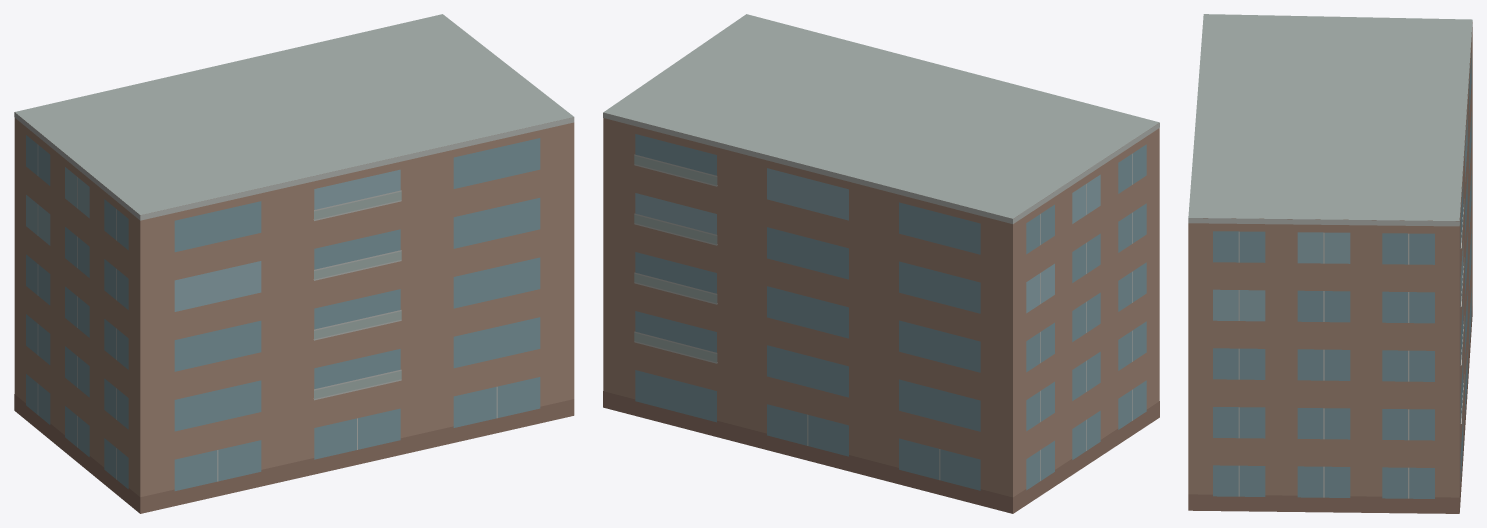
The model's file is survey-upis-33024418.glb.
The picture shows the model from 3 angles, left to right: view 1: azimuth 30°, elevation 25°; view 2: azimuth 150°, elevation 25°; view 3: azimuth 270°, elevation 25°; orthographic projection. The views are drawn at different scales.
Visible parts, largest first — view 1: survey-upis-33024418.tmp; view 2: survey-upis-33024418.tmp; view 3: survey-upis-33024418.tmp.
Boxes of the visible parts, x1,y1,x2,y2 form: survey-upis-33024418.tmp: (14, 14, 574, 513); survey-upis-33024418.tmp: (603, 14, 1159, 513); survey-upis-33024418.tmp: (1188, 14, 1472, 513).
Size of the model in its own units: 20.26 by 13.35 by 11.76.
